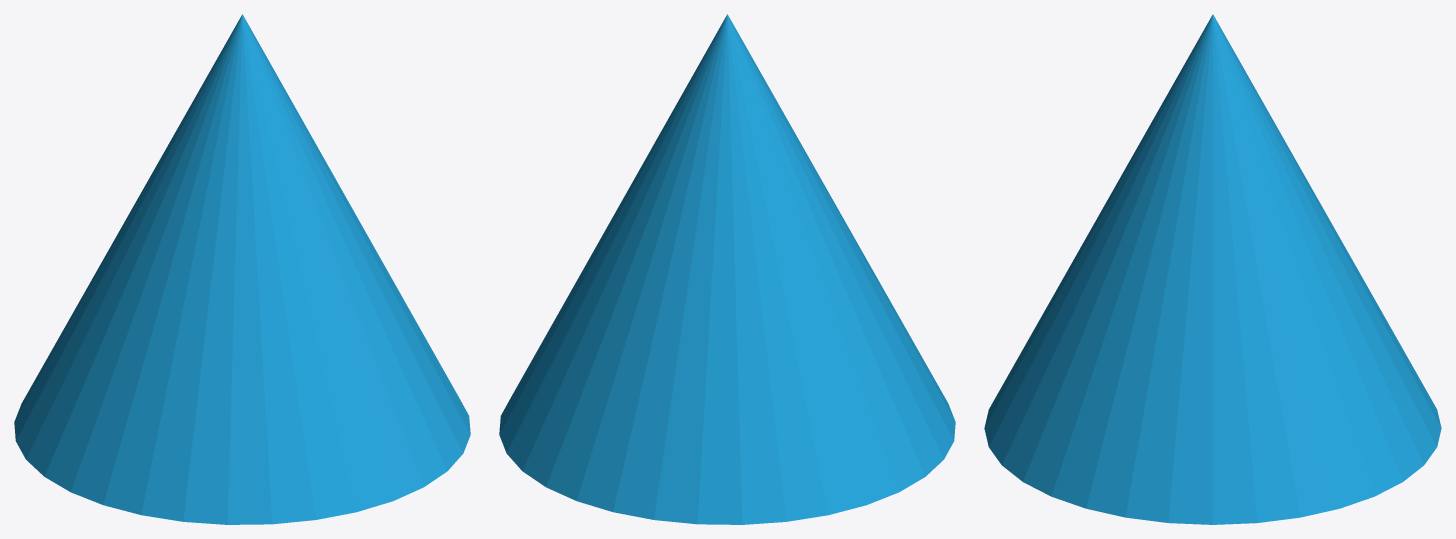
The model's file is davidCubeB2.gltf.
The picture shows the model from 3 angles, left to right: view 1: azimuth 30°, elevation 25°; view 2: azimuth 150°, elevation 25°; view 3: azimuth 270°, elevation 25°; orthographic projection.
Visible parts, largest first — view 1: davidCubeB2; view 2: davidCubeB2; view 3: davidCubeB2.
Part boxes in pixels (bbox=[...]): davidCubeB2: bbox=[14, 14, 470, 524]; davidCubeB2: bbox=[499, 14, 955, 524]; davidCubeB2: bbox=[984, 14, 1441, 524].
Bounding box in the file's own units: 0.8652 × 0.8652 × 0.8652.
